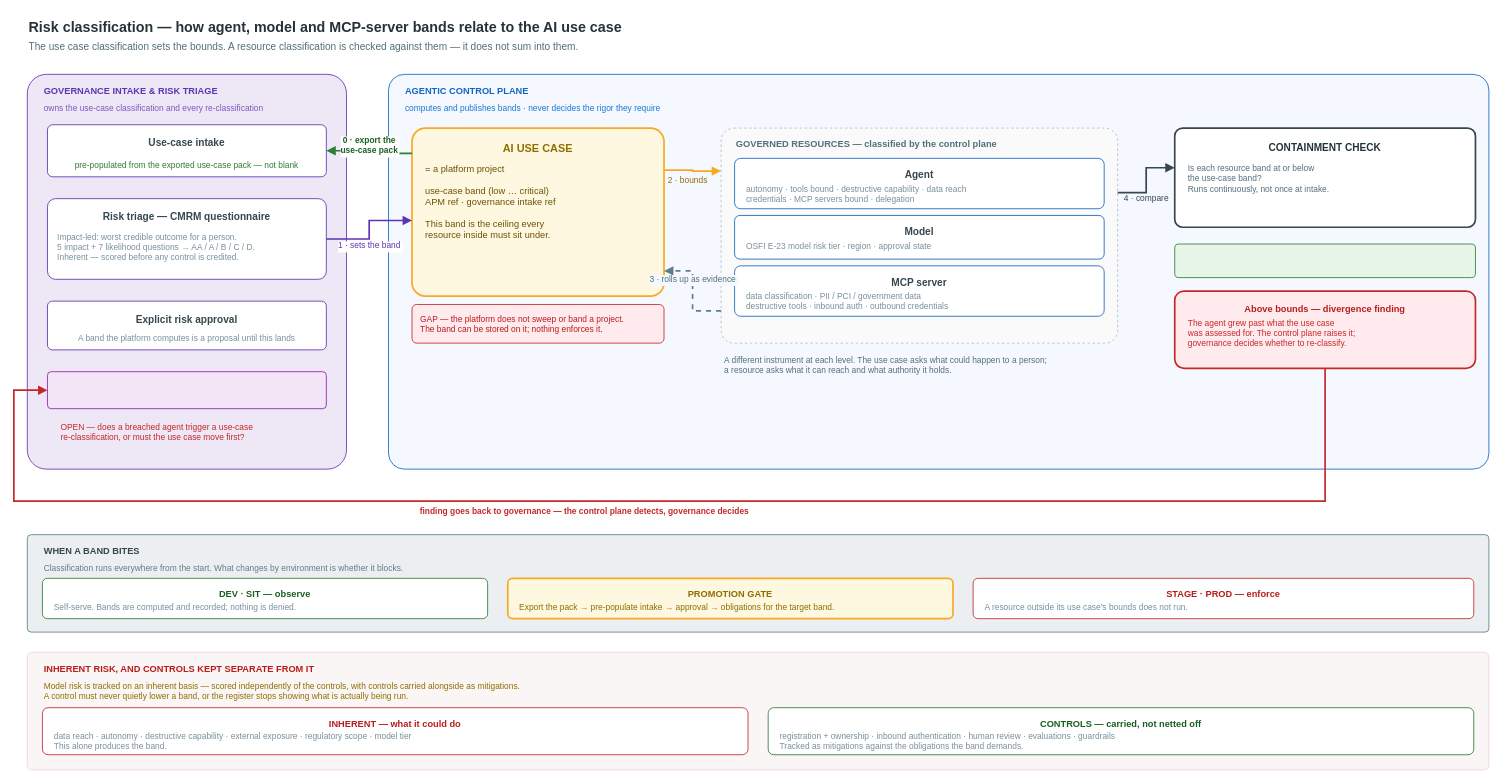
This 1503x784 diagram has some shape labels left out. The shapes that lost their labels are listed below. From the top down, each one's centre as x and y in pixels, then its label:
At [1324,260]: "Within bounds — no action".
At [186,390]: "Re-classification happens here — not in the control plane".
